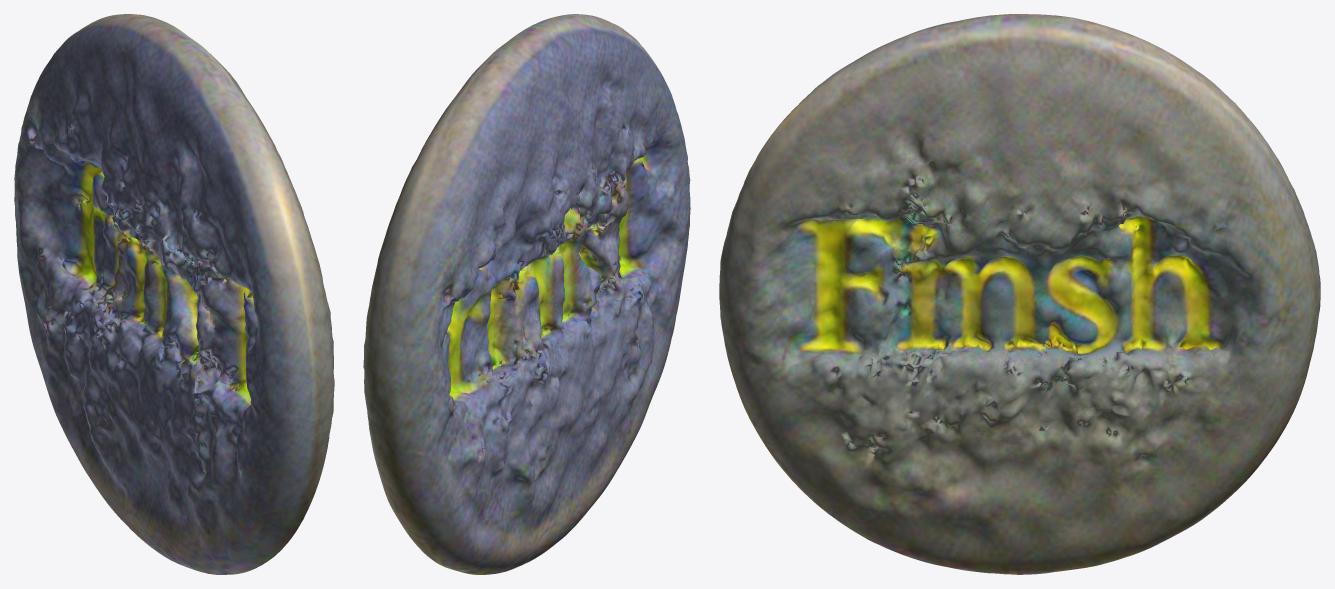
The model's file is finish.glb.
3 views of the same model, side by side, from view 1: azimuth 30°, elevation 25°; view 2: azimuth 150°, elevation 25°; view 3: azimuth 270°, elevation 25° (orthographic). The views are drawn at different scales.
Visible parts, largest first — view 1: Mesh1; view 2: Mesh1; view 3: Mesh1.
Boxes of the visible parts, x1=… form: Mesh1: x1=14, y1=14, x2=334, y2=574; Mesh1: x1=363, y1=14, x2=690, y2=574; Mesh1: x1=719, y1=14, x2=1320, y2=574.
Bounding box in the file's own units: 0.274 × 1.2 × 1.18.
Materials: 1 (1 with a texture image).
